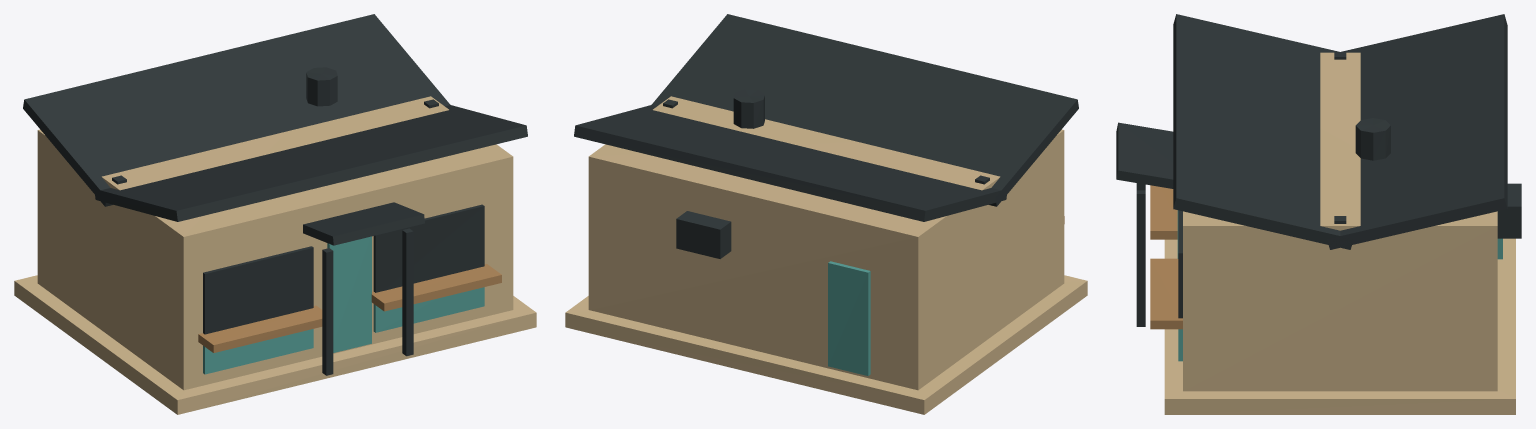
The model's file is Restaurant.glb.
The picture shows the model from 3 angles, left to right: view 1: azimuth 30°, elevation 25°; view 2: azimuth 150°, elevation 25°; view 3: azimuth 270°, elevation 25°; orthographic projection. The views are drawn at different scales.
Parts seen in each view (by area): view 1: restaurant-static-restaurant-charcoal-roof-and-glazing, restaurant-static-restaurant-cream-walls, restaurant-static-restaurant-pale-stone, restaurant-static-restaurant-muted-teal-panels-and-doors, restaurant-static-restaurant-warm-timber-ledges; view 2: restaurant-static-restaurant-cream-walls, restaurant-static-restaurant-charcoal-roof-and-glazing, restaurant-static-restaurant-pale-stone, restaurant-static-restaurant-muted-teal-panels-and-doors; view 3: restaurant-static-restaurant-charcoal-roof-and-glazing, restaurant-static-restaurant-cream-walls, restaurant-static-restaurant-pale-stone, restaurant-static-restaurant-warm-timber-ledges, restaurant-static-restaurant-muted-teal-panels-and-doors.
Boxes of the visible parts, <box> form: restaurant-static-restaurant-charcoal-roof-and-glazing: <box>23,14,527,375</box>; restaurant-static-restaurant-cream-walls: <box>37,96,513,390</box>; restaurant-static-restaurant-pale-stone: <box>14,275,536,414</box>; restaurant-static-restaurant-muted-teal-panels-and-doors: <box>203,236,484,374</box>; restaurant-static-restaurant-warm-timber-ledges: <box>198,264,501,352</box>; restaurant-static-restaurant-cream-walls: <box>588,96,1064,390</box>; restaurant-static-restaurant-charcoal-roof-and-glazing: <box>574,14,1078,258</box>; restaurant-static-restaurant-pale-stone: <box>565,275,1087,414</box>; restaurant-static-restaurant-muted-teal-panels-and-doors: <box>828,261,870,375</box>; restaurant-static-restaurant-charcoal-roof-and-glazing: <box>1116,14,1521,326</box>; restaurant-static-restaurant-cream-walls: <box>1183,52,1497,391</box>; restaurant-static-restaurant-pale-stone: <box>1164,238,1515,414</box>; restaurant-static-restaurant-warm-timber-ledges: <box>1150,185,1182,329</box>; restaurant-static-restaurant-muted-teal-panels-and-doors: <box>1177,210,1502,361</box>.
Size of the model in its own units: 6.1 by 3.43 by 5.53.
